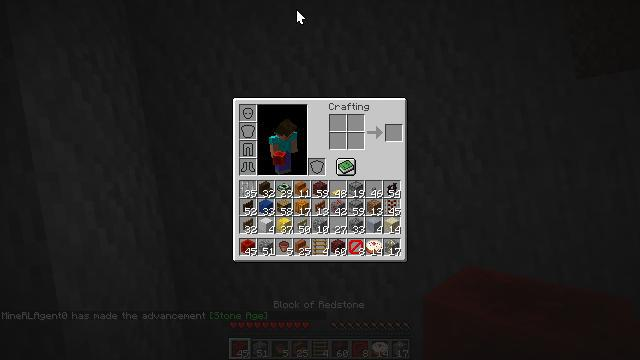cursor: (296, 9, 306, 25)
